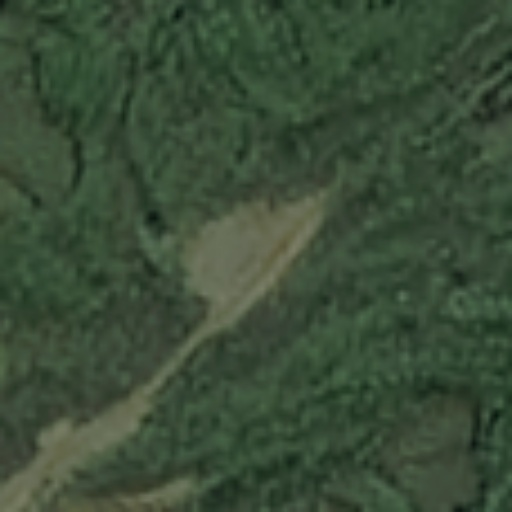landslide: (180, 187, 329, 324)
